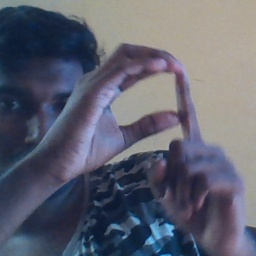P: (77, 34, 227, 217)
